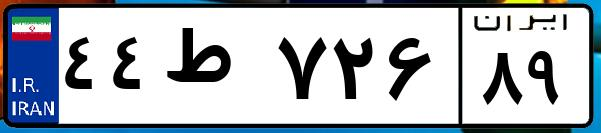2: (330, 28, 385, 110)
4: (57, 26, 110, 100), (110, 28, 158, 98)
6: (385, 28, 445, 110)
7: (270, 28, 330, 110)
8: (475, 38, 525, 113)
9: (525, 38, 570, 115)
ط: (158, 20, 270, 120)
